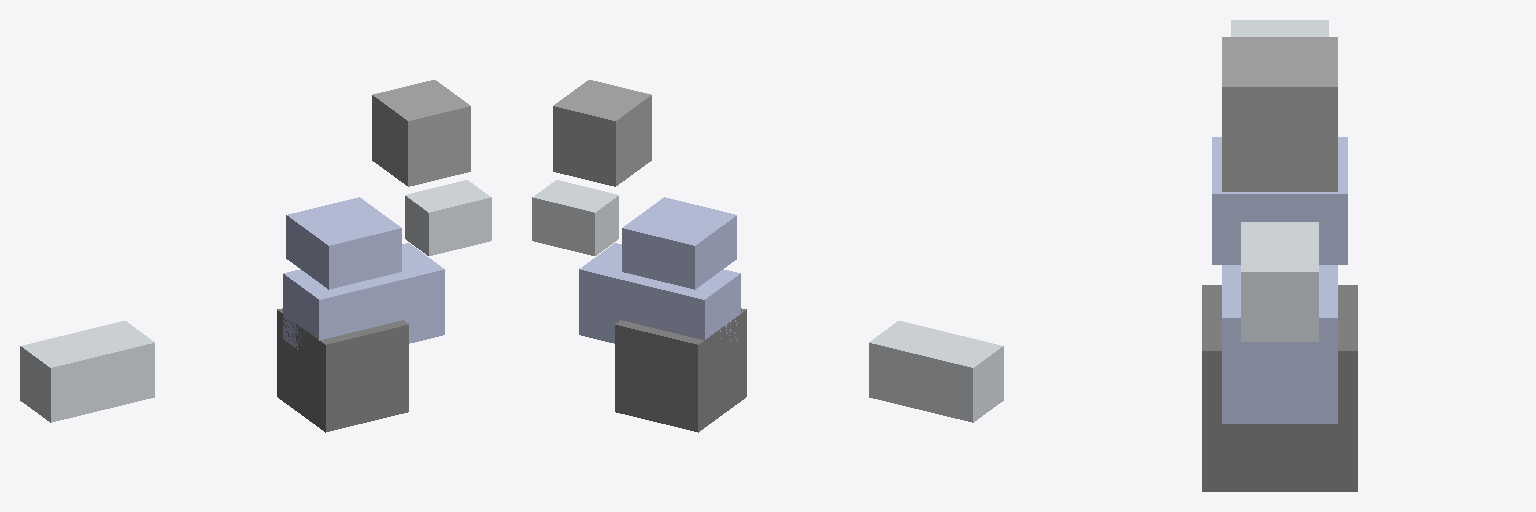
robot.urdf — r5a:
<?xml version="1.0" encoding="utf-8"?>
<!-- This URDF was automatically created by SolidWorks to URDF Exporter! Originally created by Stephen Brawner (brawner@gmail.com) 
     Commit Version: 1.6.0-4-g7f85cfe  Build Version: 1.6.7995.38578
     For more information, please see http://wiki.ros.org/sw_urdf_exporter -->
<robot
  name="r5a">
  <link
    name="r5a_base_link">
    <inertial>
      <origin
        xyz="-0.00013359 6.672E-05 0.031672"
        rpy="0 0 0" />
      <mass
        value="0.42272" />
      <inertia
        ixx="0.00019"
        ixy="0.00000"
        ixz="0.00000"
        iyy="0.00019"
        iyz="0.00000"
        izz="0.00020" />
    </inertial>
    <visual>
      <origin
        xyz="0 0 0"
        rpy="0 0 0" />
      <geometry>
        <mesh
          filename="package://r5a/meshes/r5a_base_link.STL" />
      </geometry>
      <material
        name="">
        <color
          rgba="0.89804 0.91765 0.92941 1" />
      </material>
    </visual>
    <collision>
      <origin
        xyz="0 0 0"
        rpy="0 0 0" />
      <geometry>
        <mesh
          filename="package://r5a/meshes/r5a_base_link.STL" />
      </geometry>
    </collision>
  </link>
  <link
    name="link1">
    <inertial>
      <origin
        xyz="0.0050395 -0.0077407 0.020897"
        rpy="0 0 0" />
      <mass
        value="0.096804" />
      <inertia
        ixx="0.00011"
        ixy="-0.00001"
        ixz="0.00001"
        iyy="0.00005"
        iyz="-0.00001"
        izz="0.00010" />
    </inertial>
    <visual>
      <origin
        xyz="0 0 0"
        rpy="0 0 0" />
      <geometry>
        <mesh
          filename="package://r5a/meshes/link1.STL" />
      </geometry>
      <material
        name="">
        <color
          rgba="0.56471 0.56471 0.56471 1" />
      </material>
    </visual>
    <collision>
      <origin
        xyz="0 0 0"
        rpy="0 0 0" />
      <geometry>
        <mesh
          filename="package://r5a/meshes/link1.STL" />
      </geometry>
    </collision>
  </link>
  <joint
    name="joint1"
    type="revolute">
    <origin
      xyz="0 0 0.0565"
      rpy="0 0 0" />
    <parent
      link="r5a_base_link" />
    <child
      link="link1" />
    <axis
      xyz="0 0 1" />
    <limit
      lower="-10"
      upper="10"
      effort="100"
      velocity="1000" />
  </joint>
  <link
    name="link2">
    <inertial>
      <origin
        xyz="-0.12992 -0.0011822 -2.6366E-05"
        rpy="0 0 0" />
      <mass
        value="1.1988" />
      <inertia
        ixx="0.00065"
        ixy="0.00008"
        ixz="0.00000"
        iyy="0.01647"
        iyz="0.00000"
        izz="0.01646" />
    </inertial>
    <visual>
      <origin
        xyz="0 0 0"
        rpy="0 0 0" />
      <geometry>
        <mesh
          filename="package://r5a/meshes/link2.STL" />
      </geometry>
      <material
        name="">
        <color
          rgba="0.79216 0.81961 0.93333 1" />
      </material>
    </visual>
    <collision>
      <origin
        xyz="0 0 0"
        rpy="0 0 0" />
      <geometry>
        <mesh
          filename="package://r5a/meshes/link2.STL" />
      </geometry>
    </collision>
  </link>
  <joint
    name="joint2"
    type="revolute">
    <origin
      xyz="0.02 0 0.047"
      rpy="0 0 0" />
    <parent
      link="link1" />
    <child
      link="link2" />
    <axis
      xyz="0 1 0" />
    <limit
      lower="-10"
      upper="10"
      effort="100"
      velocity="1000" />
  </joint>
  <link
    name="link3">
    <inertial>
      <origin
        xyz="0.16181 0.0011723 -0.05455"
        rpy="0 0 0" />
      <mass
        value="0.84082" />
      <inertia
        ixx="0.00082"
        ixy="0.00008"
        ixz="-0.00074"
        iyy="0.00849"
        iyz="0.00001"
        izz="0.00834" />
    </inertial>
    <visual>
      <origin
        xyz="0 0 0"
        rpy="0 0 0" />
      <geometry>
        <mesh
          filename="package://r5a/meshes/link3.STL" />
      </geometry>
      <material
        name="">
        <color
          rgba="0.89804 0.91765 0.92941 1" />
      </material>
    </visual>
    <collision>
      <origin
        xyz="0 0 0"
        rpy="0 0 0" />
      <geometry>
        <mesh
          filename="package://r5a/meshes/link3.STL" />
      </geometry>
    </collision>
  </link>
  <joint
    name="joint3"
    type="revolute">
    <origin
      xyz="-0.264 0 0"
      rpy="-3.1416 0 0" />
    <parent
      link="link2" />
    <child
      link="link3" />
    <axis
      xyz="0 1 0" />
    <limit
      lower="-10"
      upper="10"
      effort="100"
      velocity="1000" />
  </joint>
  <link
    name="link4">
    <inertial>
      <origin
        xyz="0.041751 0.0054236 -0.03337"
        rpy="0 0 0" />
      <mass
        value="0.12432" />
      <inertia
        ixx="0.00022"
        ixy="-0.00002"
        ixz="-0.00009"
        iyy="0.00025"
        iyz="0.00002"
        izz="0.00017" />
    </inertial>
    <visual>
      <origin
        xyz="0 0 0"
        rpy="0 0 0" />
      <geometry>
        <mesh
          filename="package://r5a/meshes/link4.STL" />
      </geometry>
      <material
        name="">
        <color
          rgba="0.79216 0.81961 0.93333 1" />
      </material>
    </visual>
    <collision>
      <origin
        xyz="0 0 0"
        rpy="0 0 0" />
      <geometry>
        <mesh
          filename="package://r5a/meshes/link4.STL" />
      </geometry>
    </collision>
  </link>
  <joint
    name="joint4"
    type="revolute">
    <origin
      xyz="0.245 -5E-05 -0.06"
      rpy="0 0 0" />
    <parent
      link="link3" />
    <child
      link="link4" />
    <axis
      xyz="0 1 0" />
    <limit
      lower="-10"
      upper="10"
      effort="100"
      velocity="1000" />
  </joint>
  <link
    name="link5">
    <inertial>
      <origin
        xyz="-8.3435E-05 -1.5428E-05 0.052216"
        rpy="0 0 0" />
      <mass
        value="0.63601" />
      <inertia
        ixx="0.00084"
        ixy="0.00000"
        ixz="0.00007"
        iyy="0.00082"
        iyz="0.00000"
        izz="0.00026" />
    </inertial>
    <visual>
      <origin
        xyz="0 0 0"
        rpy="0 0 0" />
      <geometry>
        <mesh
          filename="package://r5a/meshes/link5.STL" />
      </geometry>
      <material
        name="">
        <color
          rgba="0.69804 0.69804 0.69804 1" />
      </material>
    </visual>
    <collision>
      <origin
        xyz="0 0 0"
        rpy="0 0 0" />
      <geometry>
        <mesh
          filename="package://r5a/meshes/link5.STL" />
      </geometry>
    </collision>
  </link>
  <joint
    name="joint5"
    type="revolute">
    <origin
      xyz="0.073914 5E-05 -0.083391"
      rpy="0 0 0" />
    <parent
      link="link4" />
    <child
      link="link5" />
    <axis
      xyz="0 0 1" />
    <limit
      lower="-10"
      upper="10"
      effort="100"
      velocity="1000" />
  </joint>
  <link
    name="link6">
    <inertial>
      <origin
        xyz="0.041697 2.4368E-05 0.00014464"
        rpy="0 0 0" />
      <mass
        value="0.44089" />
      <inertia
        ixx="0.00038"
        ixy="0.00000"
        ixz="0.00000"
        iyy="0.00028"
        iyz="0.00000"
        izz="0.00050" />
    </inertial>
    <visual>
      <origin
        xyz="0 0 0"
        rpy="0 0 0" />
      <geometry>
        <mesh
          filename="package://r5a/meshes/link6.STL" />
      </geometry>
      <material
        name="">
        <color
          rgba="0.89804 0.91765 0.92941 1" />
      </material>
    </visual>
    <collision>
      <origin
        xyz="0 0 0"
        rpy="0 0 0" />
      <geometry>
        <mesh
          filename="package://r5a/meshes/link6.STL" />
      </geometry>
    </collision>
  </link>
  <joint
    name="joint6"
    type="revolute">
    <origin
      xyz="0.025286 0 0.083391"
      rpy="3.1416 0 0" />
    <parent
      link="link5" />
    <child
      link="link6" />
    <axis
      xyz="1 0 0" />
    <limit
      lower="-10"
      upper="10"
      effort="100"
      velocity="1000" />
  </joint>
  <link
    name="link7">
    <inertial>
      <origin
        xyz="-0.00035522 -0.007827 -0.0029883"
        rpy="0 0 0" />
      <mass
        value="0.064798" />
      <inertia
        ixx="0.00002"
        ixy="0.00000"
        ixz="0.00000"
        iyy="0.00003"
        iyz="0.00000"
        izz="0.00003" />
    </inertial>
    <visual>
      <origin
        xyz="0 0 0"
        rpy="0 0 0" />
      <geometry>
        <mesh
          filename="package://r5a/meshes/link7.STL" />
      </geometry>
      <material
        name="">
        <color
          rgba="1 1 1 1" />
      </material>
    </visual>
    <collision>
      <origin
        xyz="0 0 0"
        rpy="0 0 0" />
      <geometry>
        <mesh
          filename="package://r5a/meshes/link7.STL" />
      </geometry>
    </collision>
  </link>
  <joint
    name="joint7"
    type="prismatic">
    <origin
      xyz="0.08657 0.024896 -0.0002436"
      rpy="0 0 0" />
    <parent
      link="link6" />
    <child
      link="link7" />
    <axis
      xyz="0 1 0" />
    <limit
      lower="0"
      upper="0.044"
      effort="100"
      velocity="1000" />
  </joint>
  <link
    name="link8">
    <inertial>
      <origin
        xyz="-0.000355223470270755 0.00782768751820277 0.00242005642879778"
        rpy="0 0 0" />
      <mass
        value="0.0647981725781684" />
      <inertia
        ixx="0.00002"
        ixy="0.00000"
        ixz="0.00000"
        iyy="0.00003"
        iyz="0.00000"
        izz="0.00003" />
    </inertial>
    <visual>
      <origin
        xyz="0 0 0"
        rpy="0 0 0" />
      <geometry>
        <mesh
          filename="package://r5a/meshes/link8.STL" />
      </geometry>
      <material
        name="">
        <color
          rgba="1 1 1 1" />
      </material>
    </visual>
    <collision>
      <origin
        xyz="0 0 0"
        rpy="0 0 0" />
      <geometry>
        <mesh
          filename="package://r5a/meshes/link8.STL" />
      </geometry>
    </collision>
  </link>
  <joint
    name="joint8"
    type="prismatic">
    <origin
      xyz="0.08657 -0.0249 -0.00024366"
      rpy="0 0 0" />
    <parent
      link="link6" />
    <child
      link="link8" />
    <axis
      xyz="0 -1 0" />
    <limit
      lower="0"
      upper="0.044"
      effort="100"
      velocity="1000" />
  </joint>
</robot>

--- Render facts (derived) ---
Views: 3 orthographic renders of the robot side by side, from view 1: azimuth 30°, elevation 25°; view 2: azimuth 150°, elevation 25°; view 3: azimuth 270°, elevation 25°.
Model r5a with 9 links and 8 joints (6 revolute, 2 prismatic), rooted at r5a_base_link, posed every joint at zero.
Links seen in each view (by area): view 1: link1, link3, link2, link5, link4, link6; view 2: link1, link3, link2, link5, link4, link6; view 3: link5, link1, link2, link6, link4, link3.
Boxes of the visible links, box(x1,y1,x2,y2) form: link1: box(277, 308, 408, 432); link3: box(20, 321, 154, 422); link2: box(283, 243, 444, 352); link5: box(372, 80, 470, 186); link4: box(286, 197, 401, 289); link6: box(405, 180, 491, 255); link1: box(615, 308, 746, 432); link3: box(869, 321, 1003, 422); link2: box(579, 243, 740, 343); link5: box(553, 80, 651, 186); link4: box(622, 197, 736, 289); link6: box(532, 180, 618, 255); link5: box(1222, 37, 1337, 191); link1: box(1202, 285, 1357, 491); link2: box(1222, 265, 1337, 423); link6: box(1241, 222, 1318, 341); link4: box(1212, 137, 1347, 264); link3: box(1231, 20, 1328, 36).
Size in the robot's own frame: 0.4242 by 0.08 by 0.2604 metres.
6 mesh visuals loaded from 9 distinct referenced files (6 ASCII STL); not drawn: 3 (reference not matched to a file when rendering).
